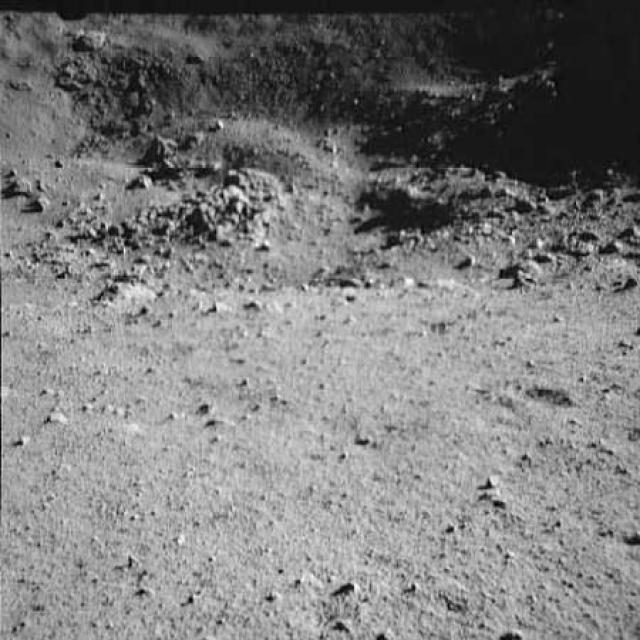rock: (96, 277, 160, 307), (512, 256, 540, 291), (147, 132, 179, 158), (9, 172, 34, 198), (182, 129, 205, 150), (124, 175, 154, 190), (27, 193, 49, 212), (203, 118, 225, 132)
